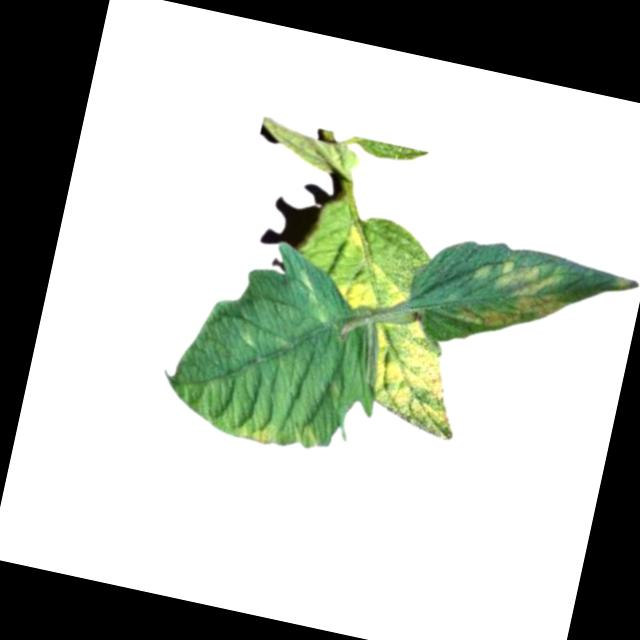Leaf_Mold: (357, 309, 478, 442), (449, 248, 577, 348), (331, 254, 419, 324), (234, 420, 282, 449), (342, 217, 371, 253)
